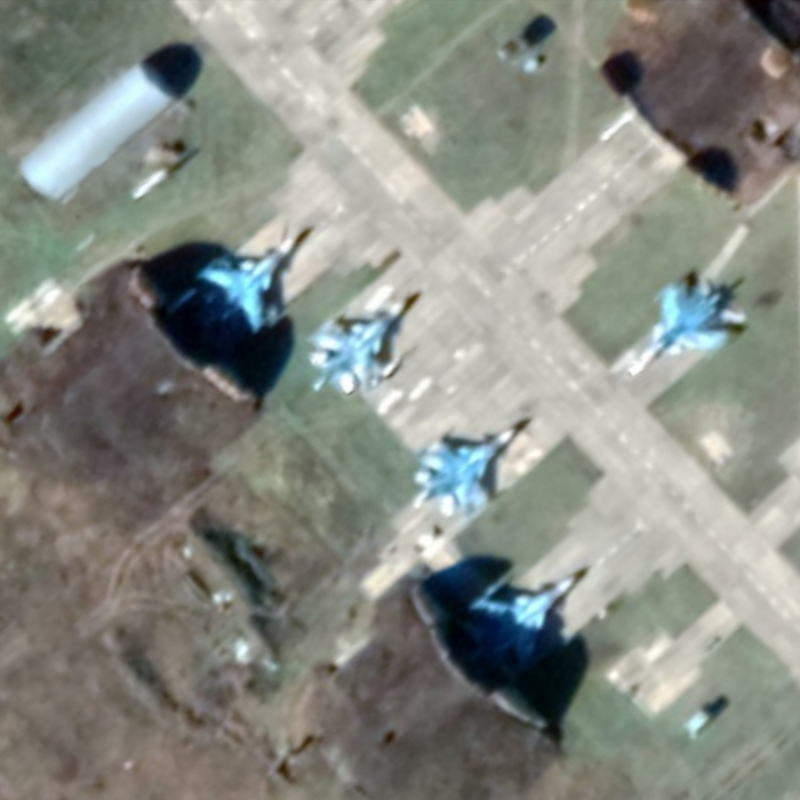A19: (459, 574, 577, 680), (624, 275, 736, 380), (192, 234, 298, 339), (410, 427, 518, 526), (306, 300, 406, 398)
